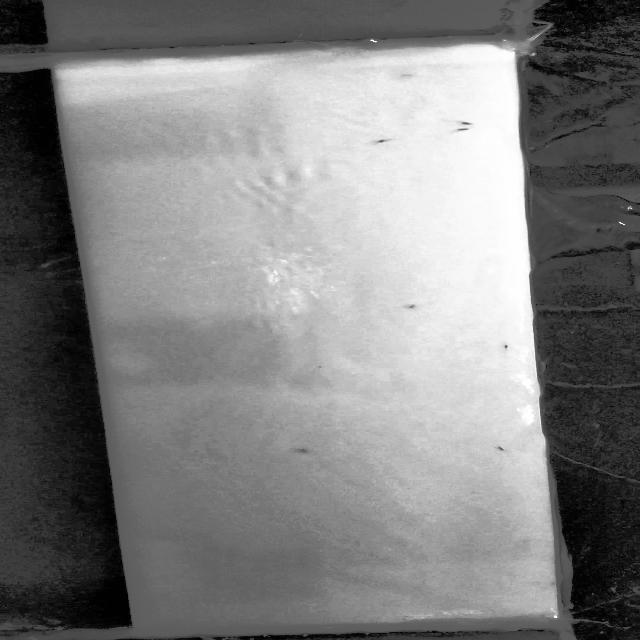shrimp: (274, 442, 328, 459), (356, 132, 411, 147), (398, 295, 426, 318), (487, 441, 516, 458), (490, 342, 518, 357), (449, 126, 482, 137), (452, 114, 479, 127)
